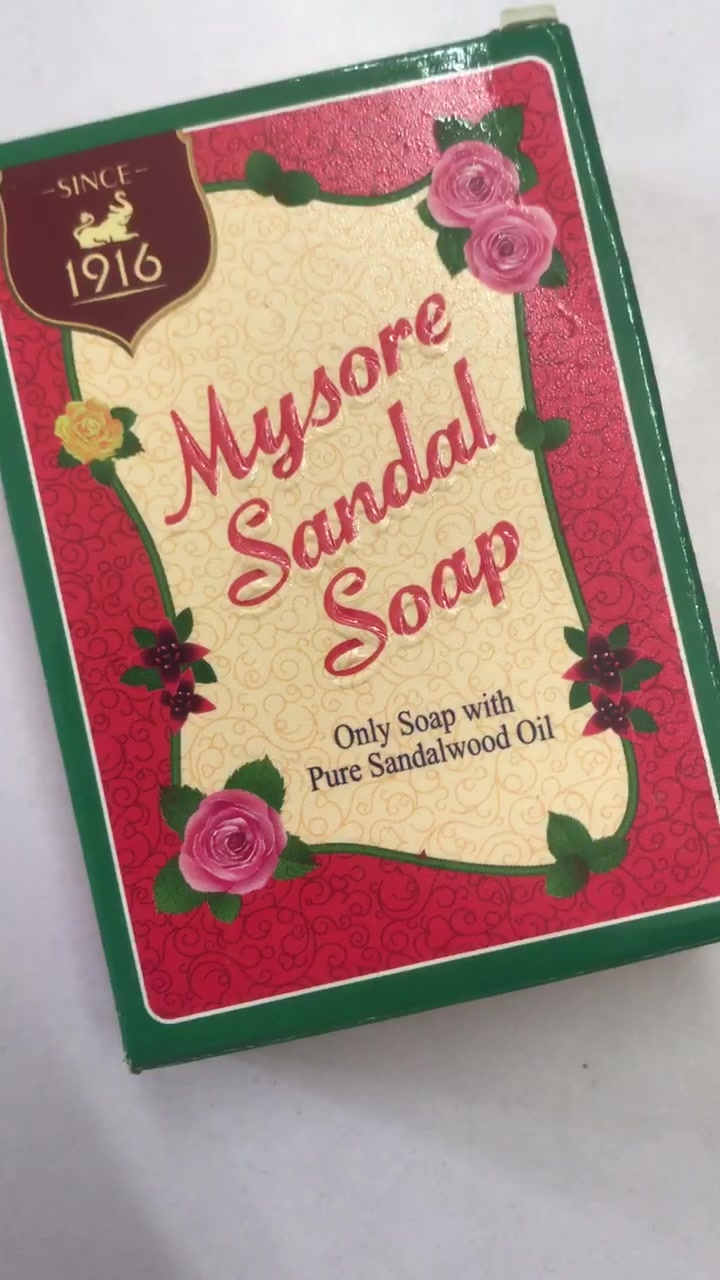mysore sandal soap: (10, 37, 717, 1067)
